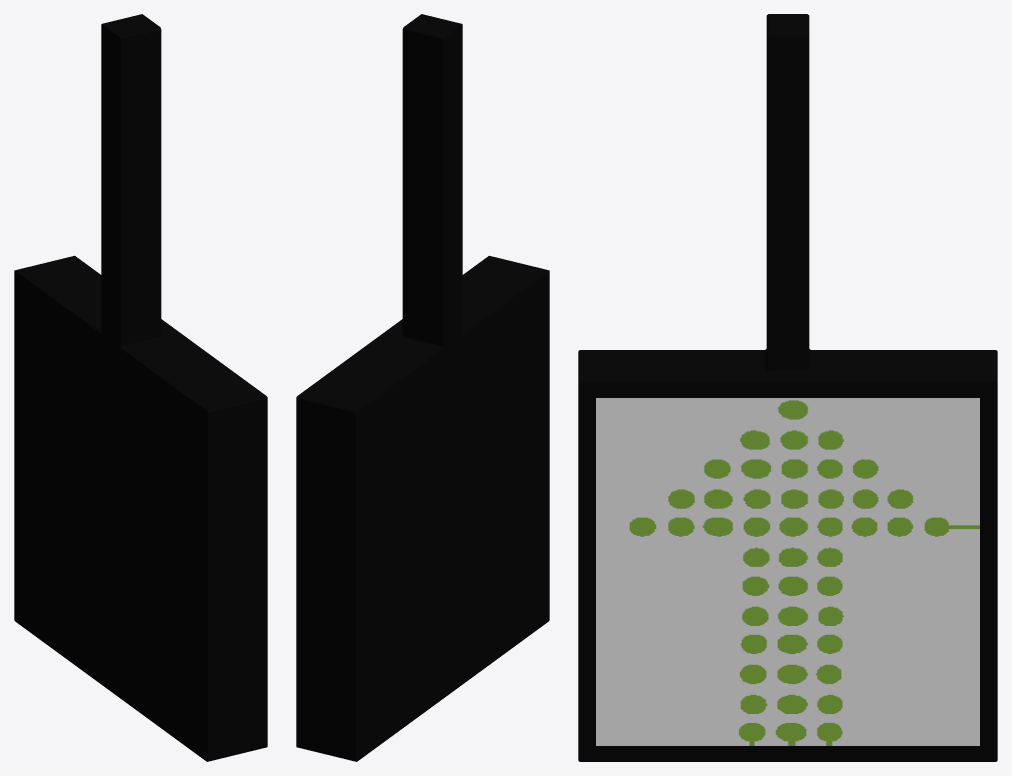
The model's file is SM_TunnelEntranceSign.fbx.
3 views of the same model, side by side, from view 1: azimuth 30°, elevation 25°; view 2: azimuth 150°, elevation 25°; view 3: azimuth 270°, elevation 25° (orthographic). The views are drawn at different scales.
Parts seen in each view (by area): view 1: Cube.013; view 2: Cube.013; view 3: Cube.013.
Part boxes in pixels (x1=…): Cube.013: x1=14, y1=14, x2=267, y2=761; Cube.013: x1=296, y1=14, x2=549, y2=761; Cube.013: x1=578, y1=14, x2=997, y2=761.
Size of the model in its own units: 7.24 by 75.14 by 39.89.
